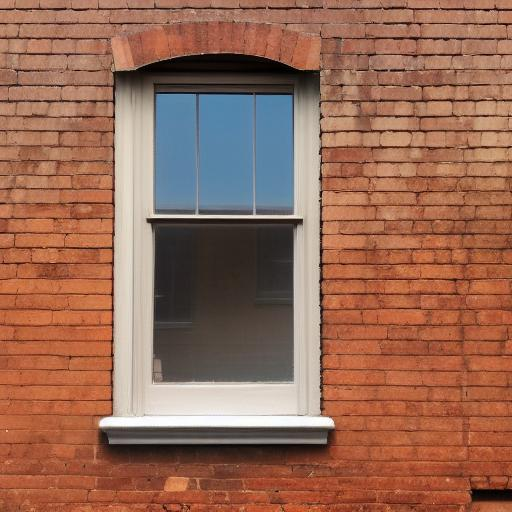Window: (98, 23, 335, 448)
